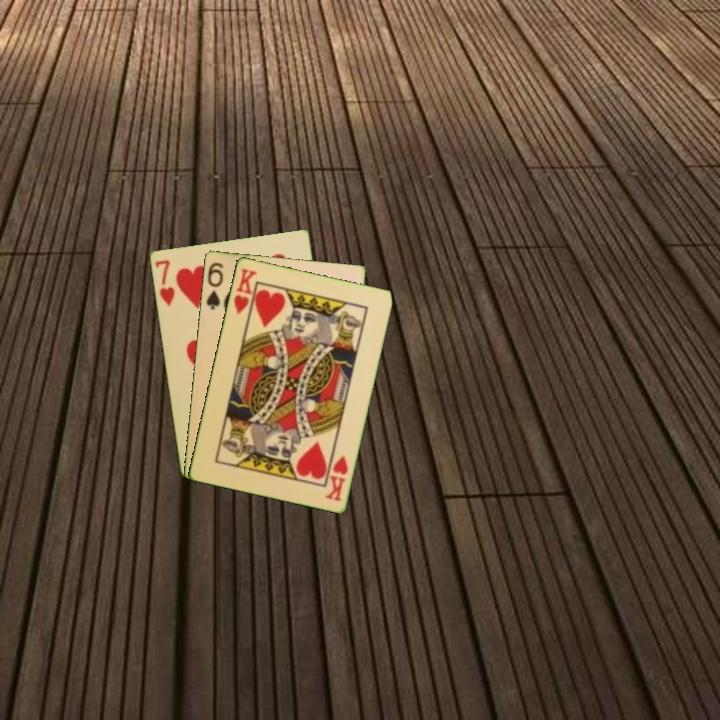6s: (202, 259, 226, 312)
7h: (151, 256, 177, 309)
Kh: (230, 264, 260, 321), (321, 452, 351, 504)
